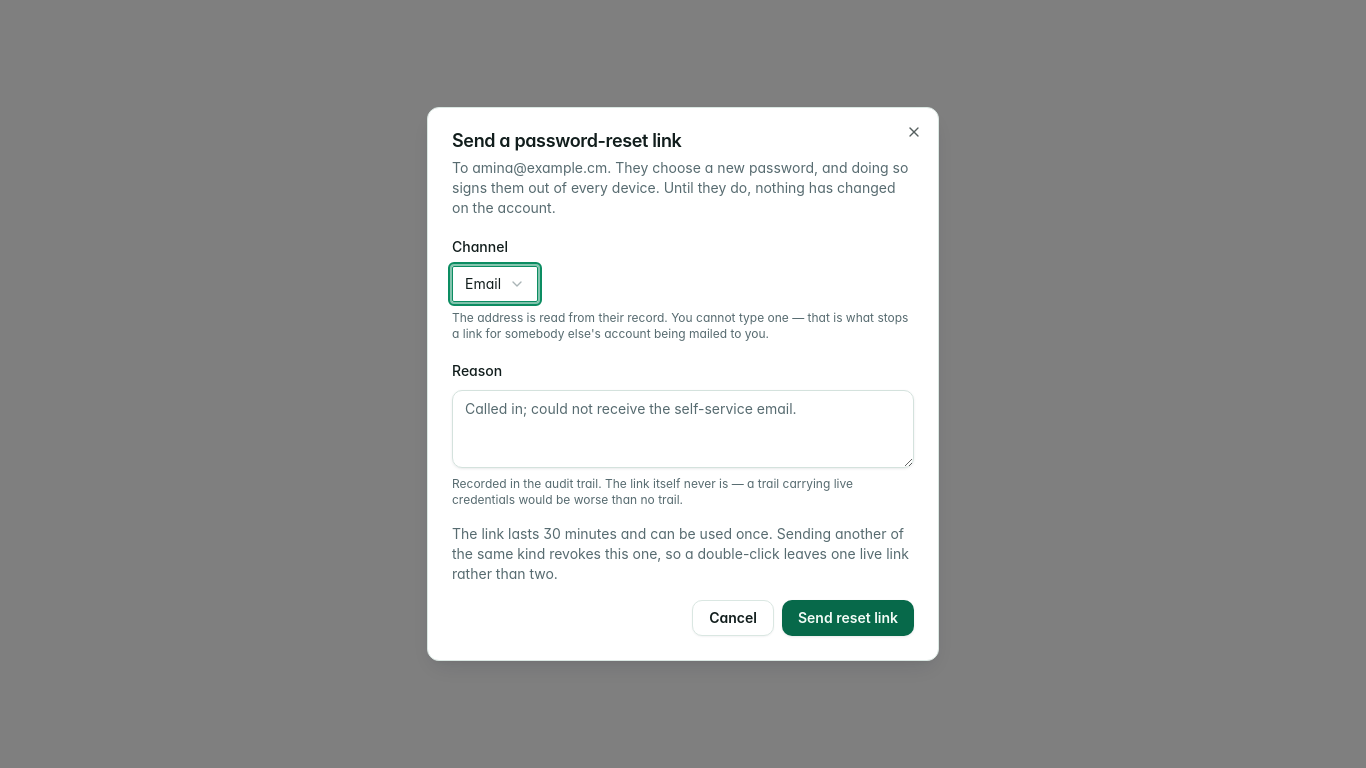
it: the refusals that do carry a code › puts an unavailable channel on the channel field
The image size is (1366, 768).
In the text box: (683, 429) x1=452 y1=390 x2=914 y2=468, type "they called the support line"
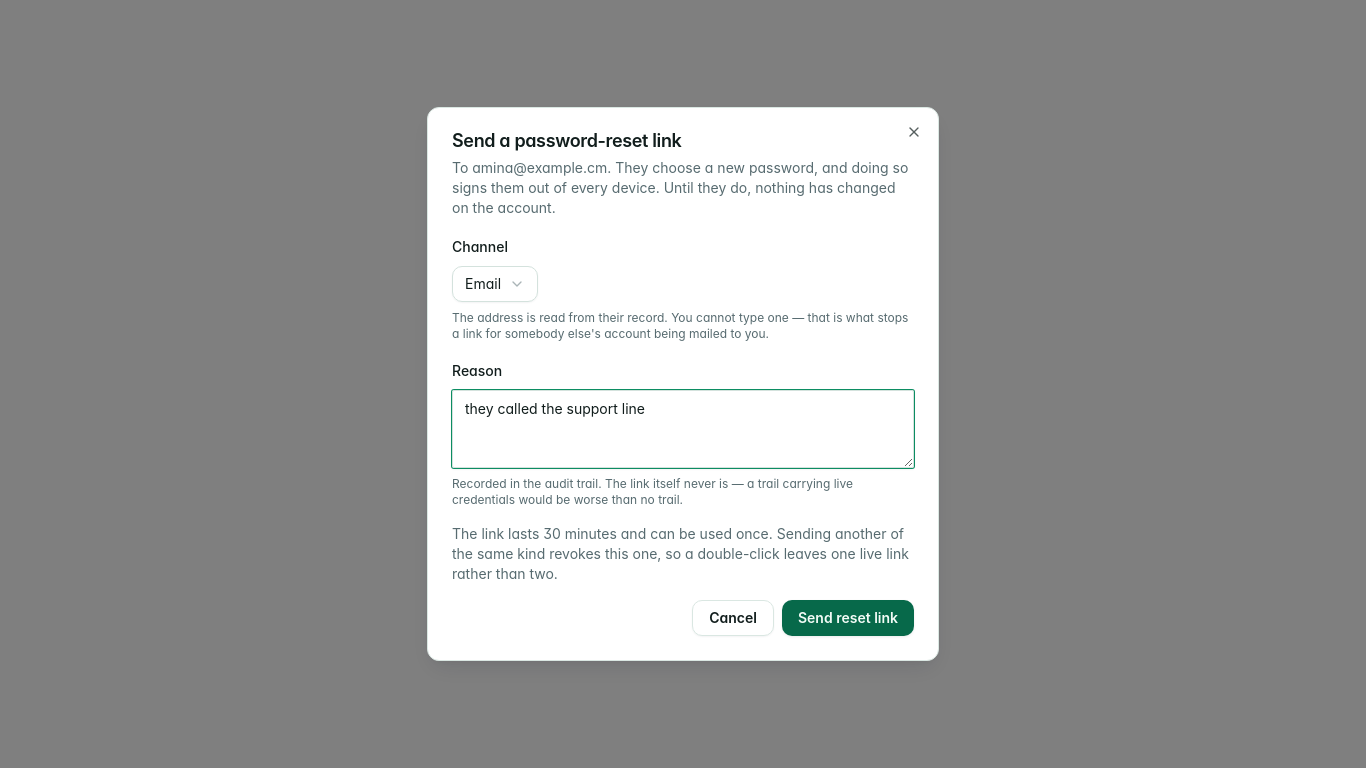
Click the button "Send reset link": (848, 618) x1=782 y1=600 x2=914 y2=636
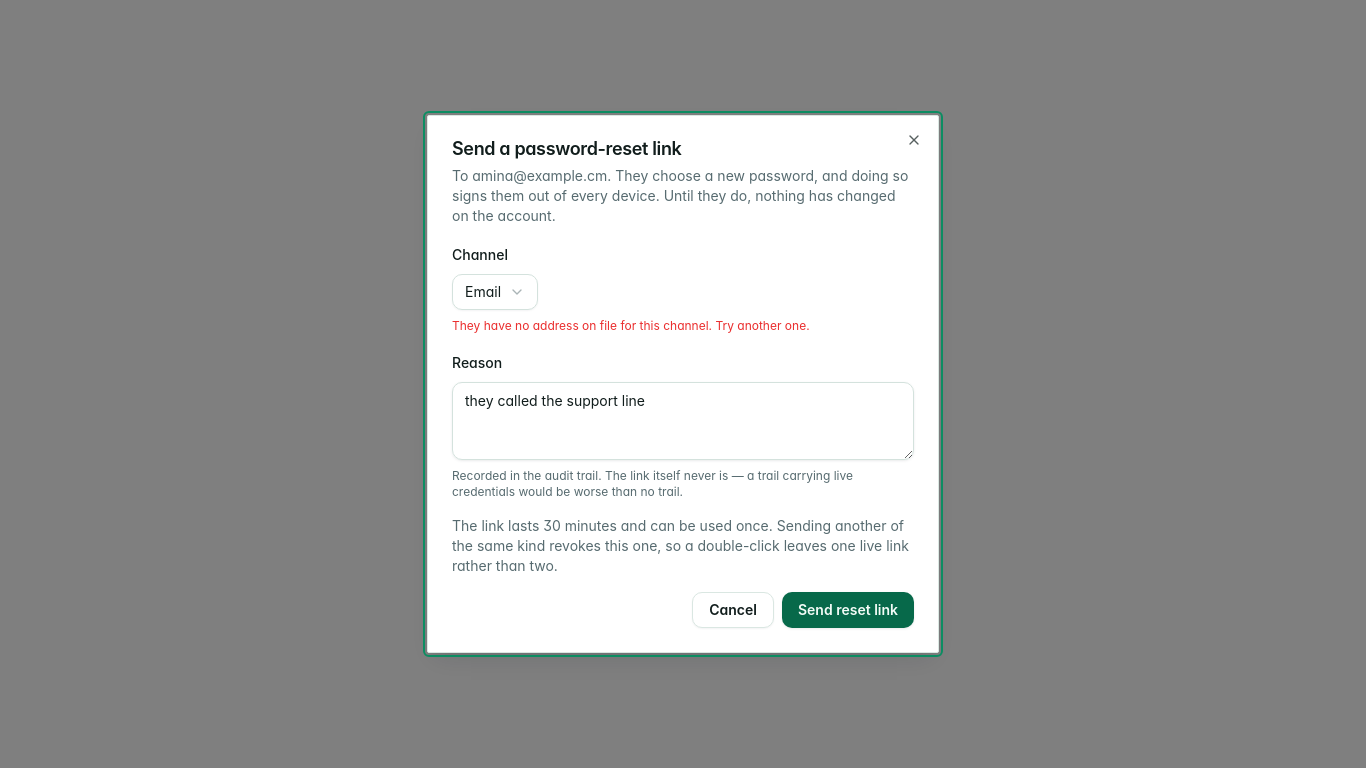
Check: the text "They have no address on file for this channel. Try another one." is shown, box x1=452 y1=318 x2=810 y2=333
